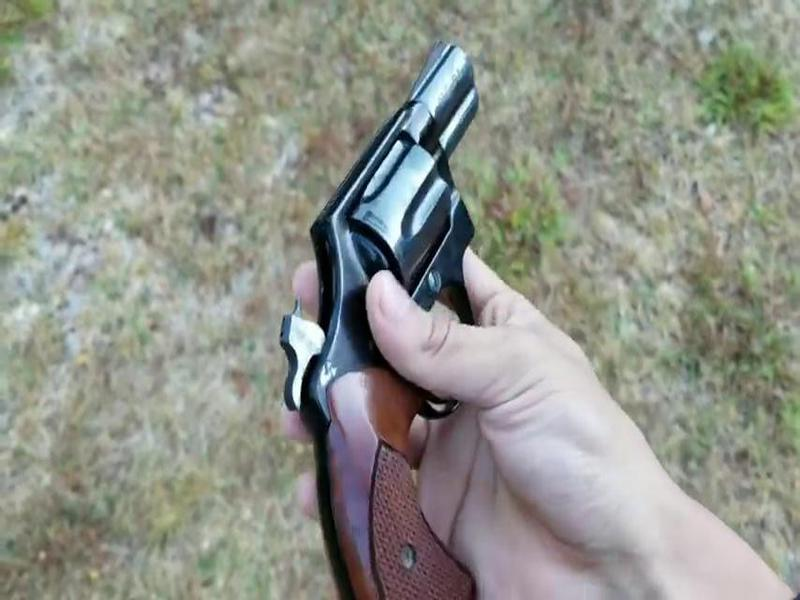Revolver: (276, 38, 564, 600)
